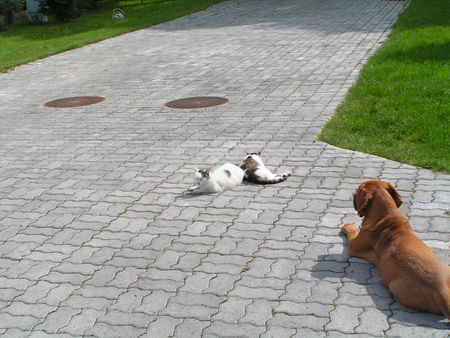tosa_inu: (341, 179, 450, 315)
